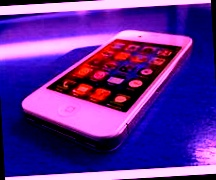iphone: (21, 31, 196, 153)
